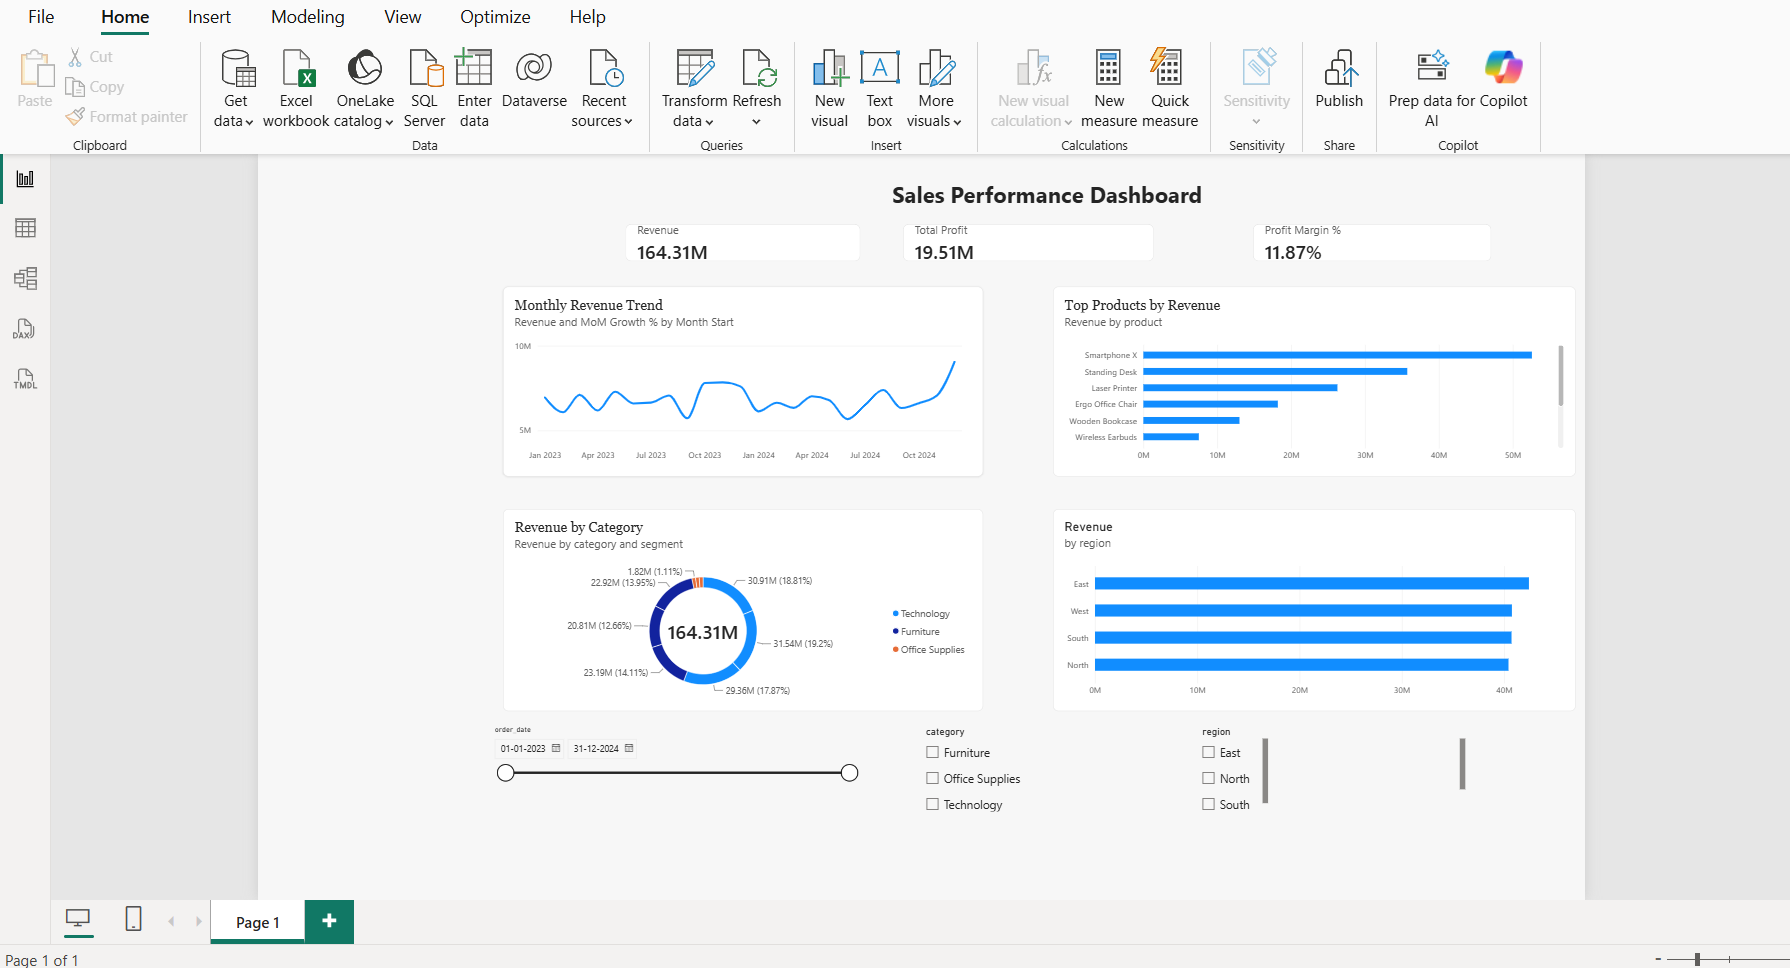

The page's visual inventory and layout, read from the dashboard file:
{"tool":"powerbi","page":{"name":"Page 1","canvas":[1920,1080],"ordinal":0},"visuals":[{"type":"cardVisual","fields":{"Data":["sales_data.Revenue"]},"box":[532,101.3,340.2,54.3],"z":0},{"type":"cardVisual","fields":{"Data":["sales_data.Profit1"]},"box":[933.8,101.3,363.7,54.3],"z":1000},{"type":"cardVisual","fields":{"Data":["sales_data.Profit Margin %"]},"box":[1440.5,101.3,345.6,54.3],"z":2000},{"type":"donutChart","title":"Revenue by Category","fields":{"Category":["sales_data.category"],"Series":["sales_data.segment"],"Y":["sales_data.Revenue"]},"box":[354.7,513.9,694.9,293.2],"z":6000},{"type":"slicer","fields":{"Values":["sales_data.category"]},"box":[959.1,827,503.1,124.9],"z":7000},{"type":"clusteredBarChart","title":"Top Products by Revenue","fields":{"Category":["sales_data.product"],"Y":["sales_data.Revenue"]},"box":[1150.9,191.8,756.4,275.1],"z":9000},{"type":"slicer","fields":{"Values":["sales_data.order_date"]},"box":[334.8,827,537.5,124.9],"z":10000},{"type":"lineChart","title":"Monthly Revenue Trend","fields":{"Y":["sales_data.Revenue"],"Category":["DateTable.Month Start"]},"box":[354.7,191.8,694.9,275.1],"z":11000},{"type":"textbox","box":[0,36.2,1885.7,65.1],"z":11001},{"type":"clusteredBarChart","fields":{"Category":["sales_data.region"],"Y":["sales_data.Revenue"]},"box":[1150.9,513.9,756.4,293.2],"z":11002},{"type":"slicer","fields":{"Values":["sales_data.region"]},"box":[1359.1,827,389.1,124.9],"z":11003}]}

Visuals, with their boxes on the page's 1920x1080 design canvas (x1, y1, x2, y2). These are canvas units, not pixel positions in the 1790x968 screenshot, which may show the page scaled, cropped or inside an application window:
cardVisual - sales_data.Revenue: bbox=(532, 101, 872, 156)
cardVisual - sales_data.Profit1: bbox=(934, 101, 1298, 156)
cardVisual - sales_data.Profit Margin %: bbox=(1440, 101, 1786, 156)
"Revenue by Category" donutChart: bbox=(355, 514, 1050, 807)
slicer - sales_data.category: bbox=(959, 827, 1462, 952)
"Top Products by Revenue" clusteredBarChart: bbox=(1151, 192, 1907, 467)
slicer - sales_data.order_date: bbox=(335, 827, 872, 952)
"Monthly Revenue Trend" lineChart: bbox=(355, 192, 1050, 467)
textbox: bbox=(0, 36, 1886, 101)
clusteredBarChart - sales_data.region x sales_data.Revenue: bbox=(1151, 514, 1907, 807)
slicer - sales_data.region: bbox=(1359, 827, 1748, 952)
